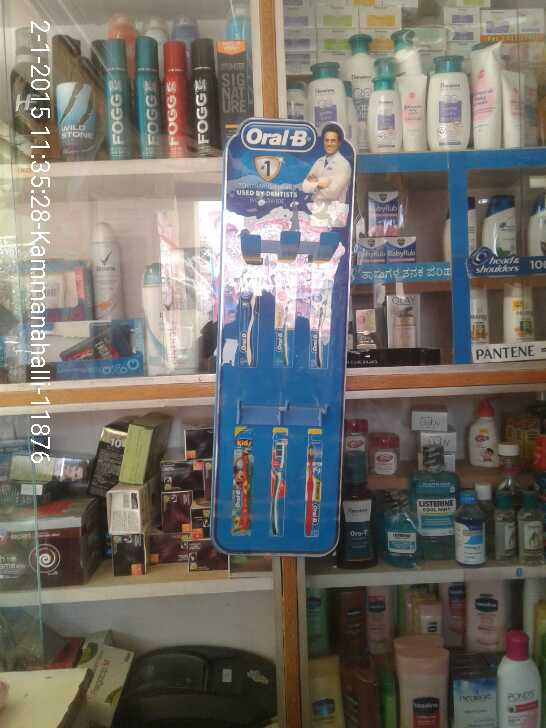beauty: (481, 195, 519, 260), (383, 291, 423, 350), (504, 277, 535, 347)
pharmacy: (366, 191, 400, 237)
